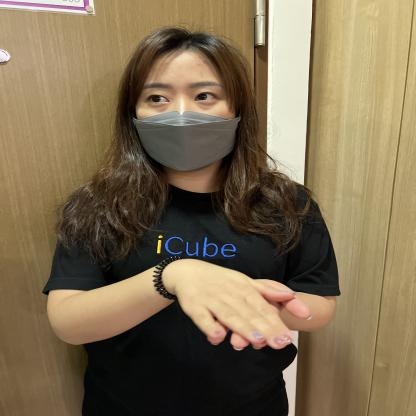Love: (101, 195, 370, 380)
